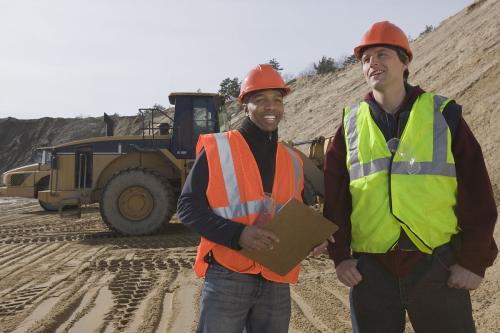hard-hat: (354, 20, 413, 62), (238, 62, 290, 102)
person: (321, 19, 499, 333), (176, 63, 335, 333)
vest: (340, 83, 479, 251), (176, 117, 307, 285)
